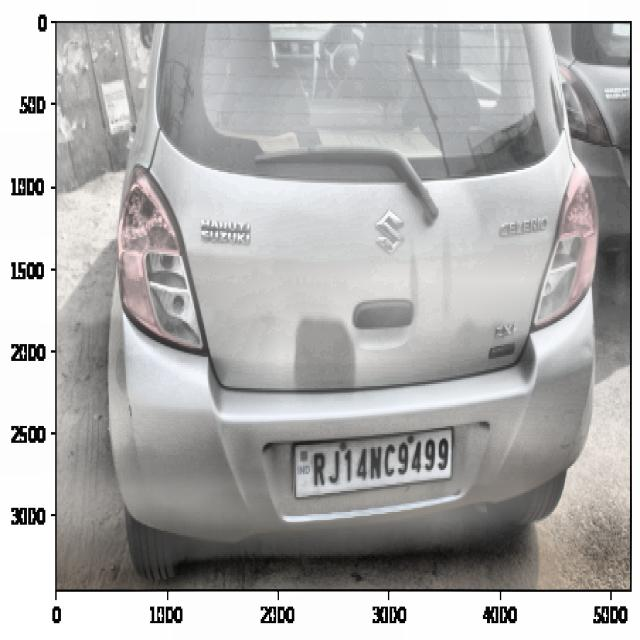license_plate: (306, 433, 453, 489)
